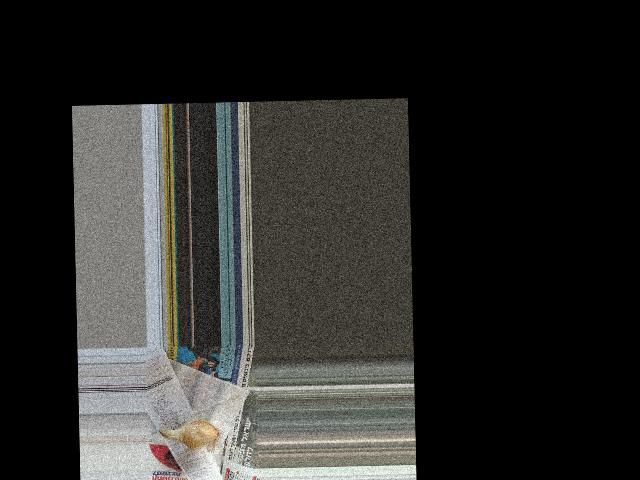onion: (176, 416, 219, 448)
